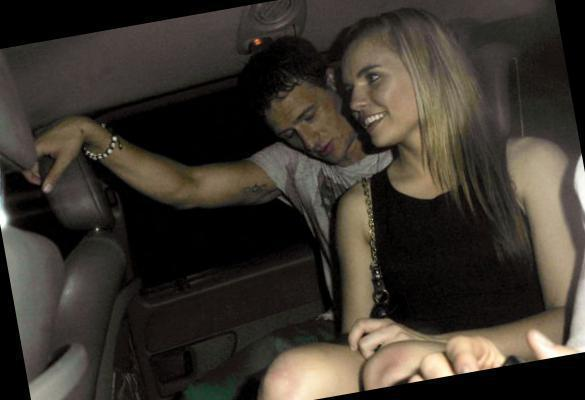Drunk: (341, 39, 418, 147), (264, 86, 351, 164)
